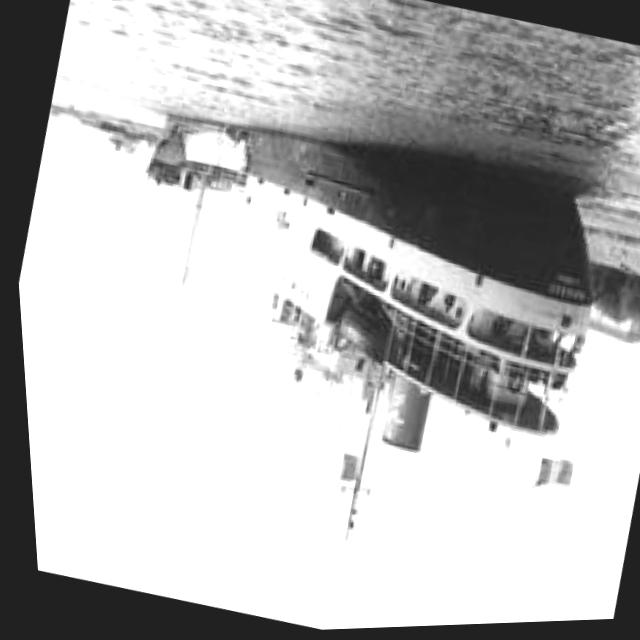ship2: (233, 133, 589, 550)
